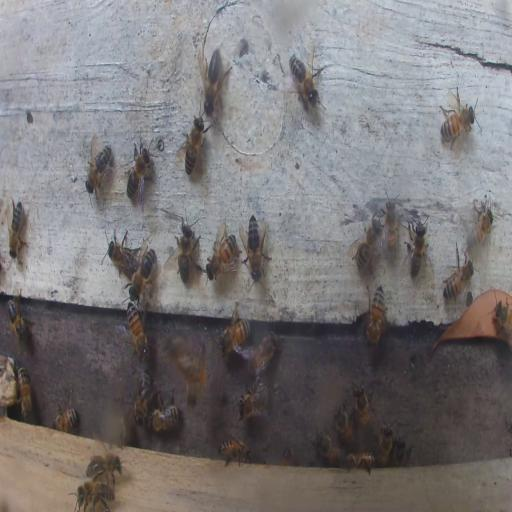nonpollenbee: (288, 46, 322, 110), (198, 48, 230, 114), (442, 242, 476, 302), (349, 213, 384, 271), (125, 138, 153, 206), (242, 214, 270, 280), (104, 227, 138, 281), (181, 112, 208, 179), (174, 213, 200, 282), (206, 226, 238, 282), (85, 139, 113, 201), (404, 214, 430, 276), (439, 99, 476, 141), (163, 336, 199, 378), (128, 247, 154, 303), (365, 286, 387, 348), (246, 334, 277, 377), (126, 302, 148, 362), (218, 316, 252, 354), (76, 480, 115, 512), (7, 200, 27, 262), (237, 382, 269, 420), (467, 202, 493, 247), (150, 392, 179, 431), (134, 370, 152, 426), (8, 294, 29, 342), (314, 430, 342, 466), (218, 438, 251, 466), (334, 406, 356, 447), (384, 192, 398, 256), (354, 383, 372, 431), (52, 401, 79, 432), (376, 421, 395, 463), (86, 456, 120, 479), (492, 300, 512, 339), (18, 366, 32, 420), (344, 450, 374, 473), (392, 439, 412, 464)
pollenbee: (182, 338, 208, 408)
